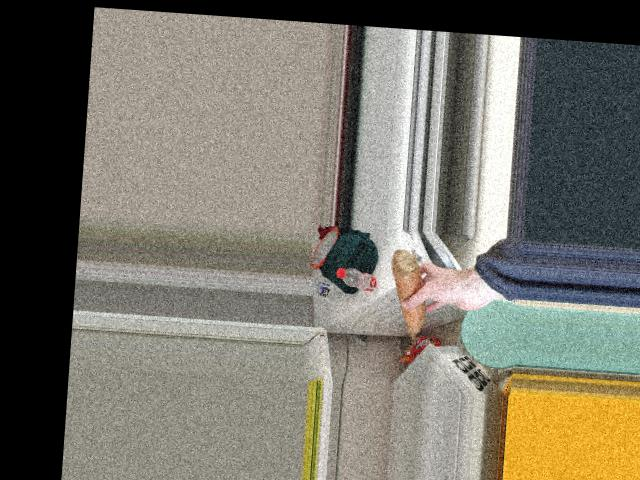sweet_potato: (392, 249, 424, 342)
